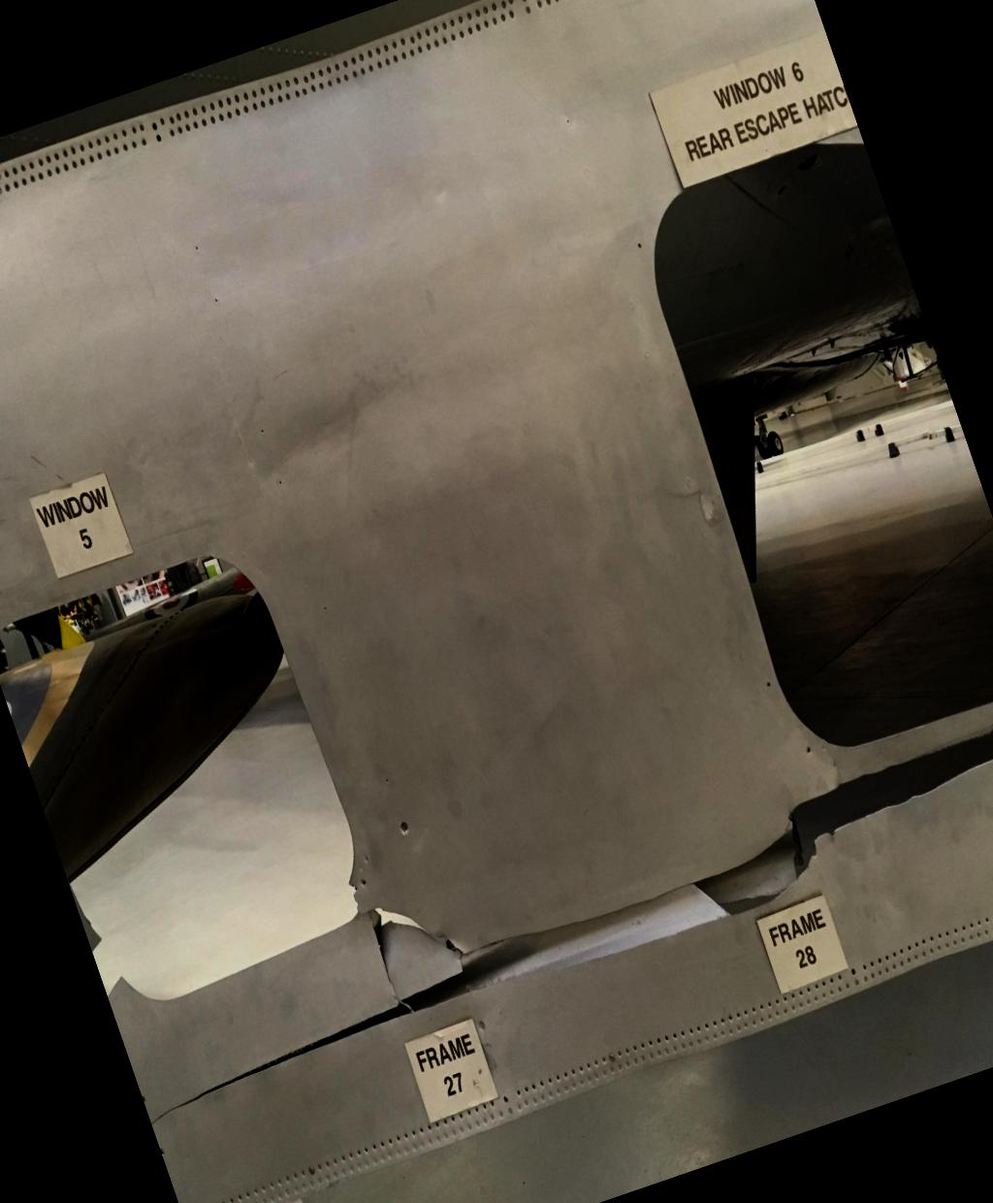crack: (106, 669, 993, 1141)
